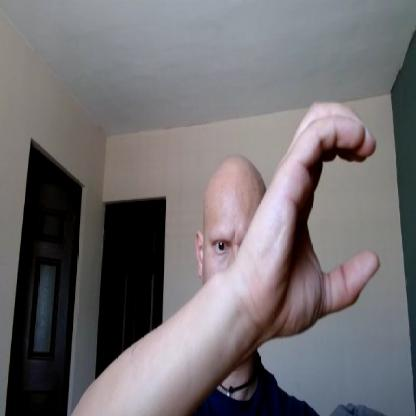C: (258, 101, 380, 339)
